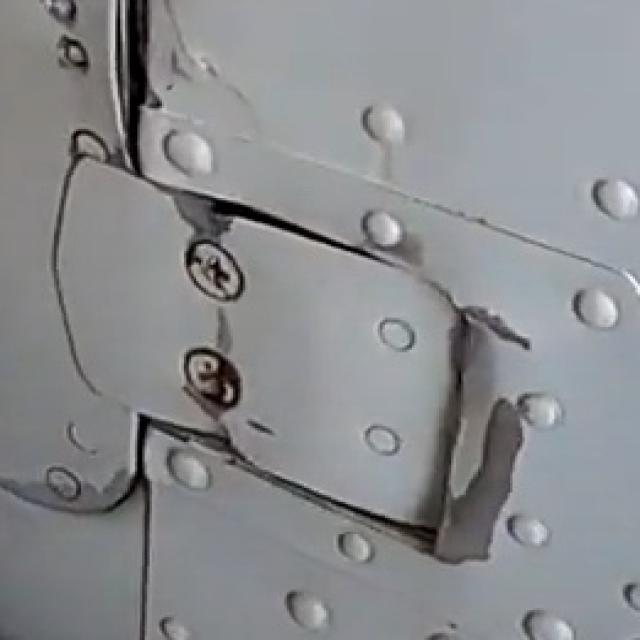crack: (196, 304, 231, 348)
